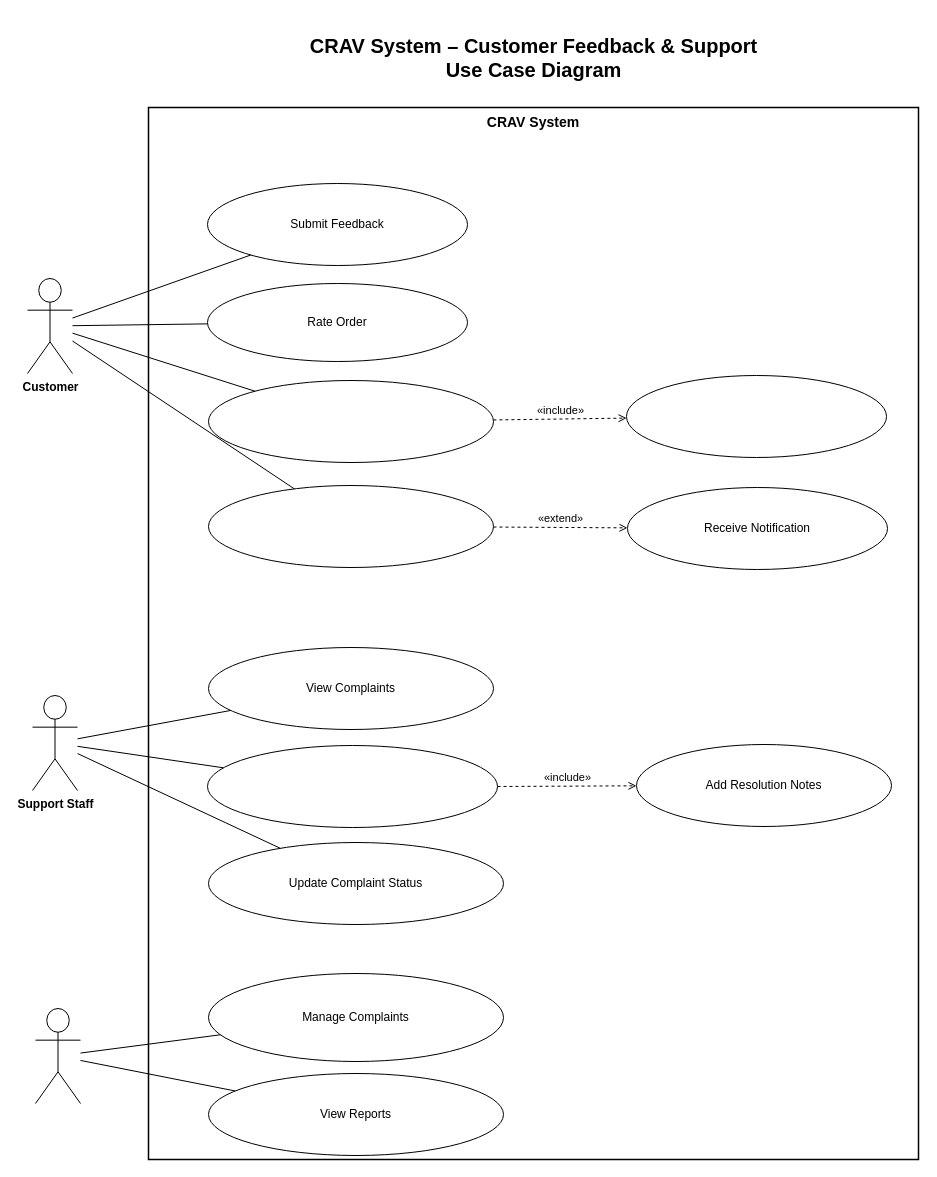
This 937x1177 diagram has some shape labels left out. The centre of each missing label's shape, as x and y in pixels:
Admin: point 57,1056
Provide Details: point 756,416
Respond to Complaint: point 352,786
Submit Complaint: point 351,421
View Complaint Status: point 351,526
